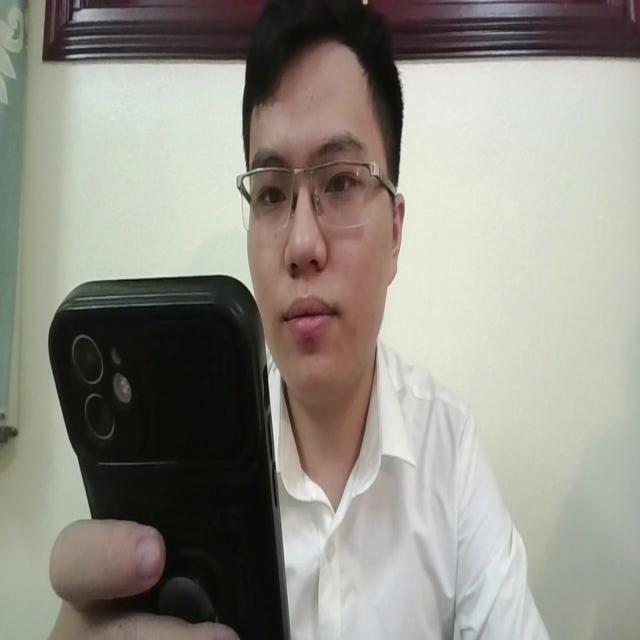phone: (36, 259, 287, 640)
student: (234, 0, 552, 640)
